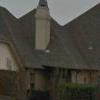Chimney: (29, 0, 58, 56)
